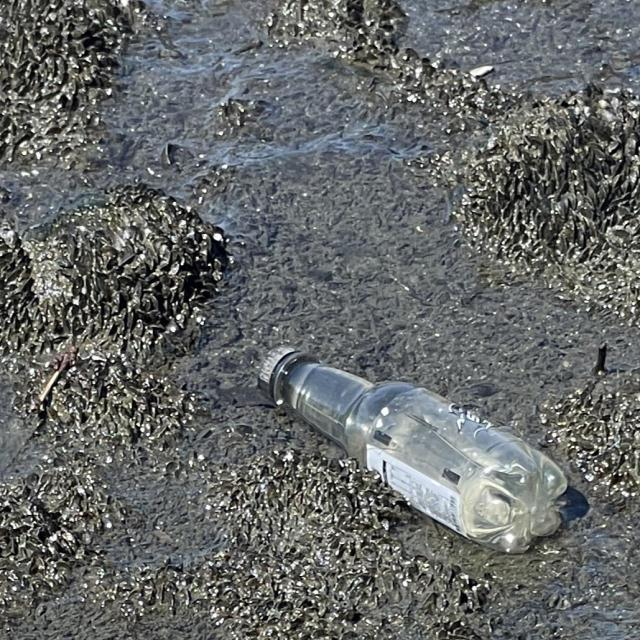plastic_waste: (256, 346, 568, 554)
